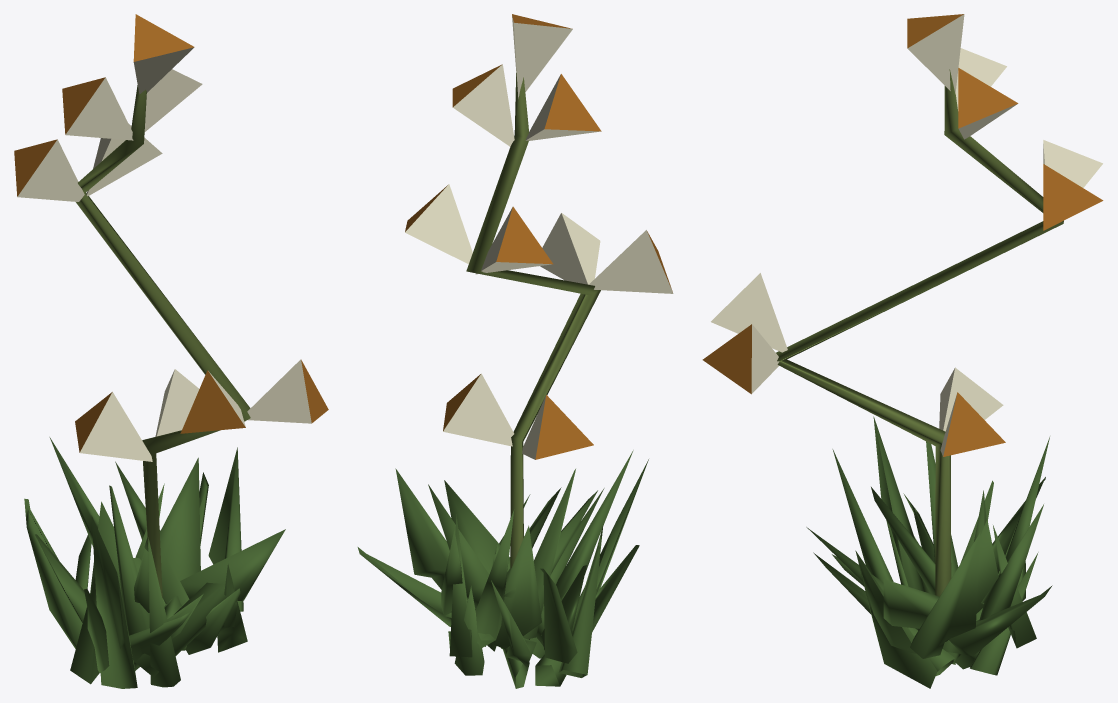
The model's file is Flower_v2.glb.
3 views of the same model, side by side, from view 1: azimuth 30°, elevation 25°; view 2: azimuth 150°, elevation 25°; view 3: azimuth 270°, elevation 25° (orthographic).
Parts seen in each view (by area): view 1: Flower_v2; view 2: Flower_v2; view 3: Flower_v2.
Boxes of the visible parts, x1,y1,x2,y2 form: Flower_v2: [14, 14, 328, 688]; Flower_v2: [357, 14, 673, 688]; Flower_v2: [702, 14, 1103, 688].
Size of the model in its own units: 0.2878 by 0.8942 by 0.4928.
